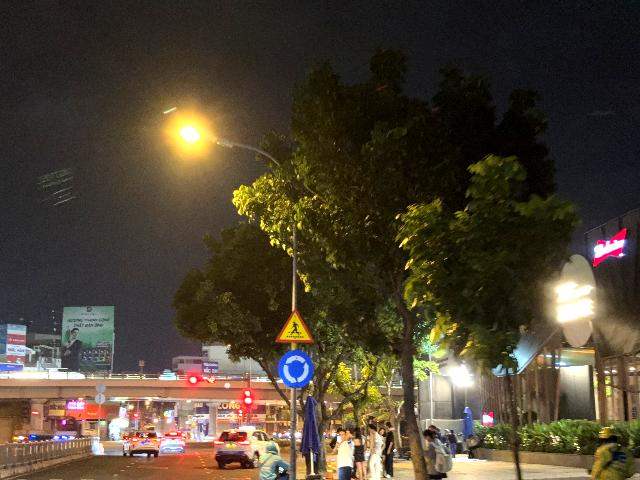duong-nguoi-di-bo-cat-ngang: (275, 309, 314, 344)
noi-giao-nhau-chay-theo-vong-xuyen: (279, 350, 314, 388)
